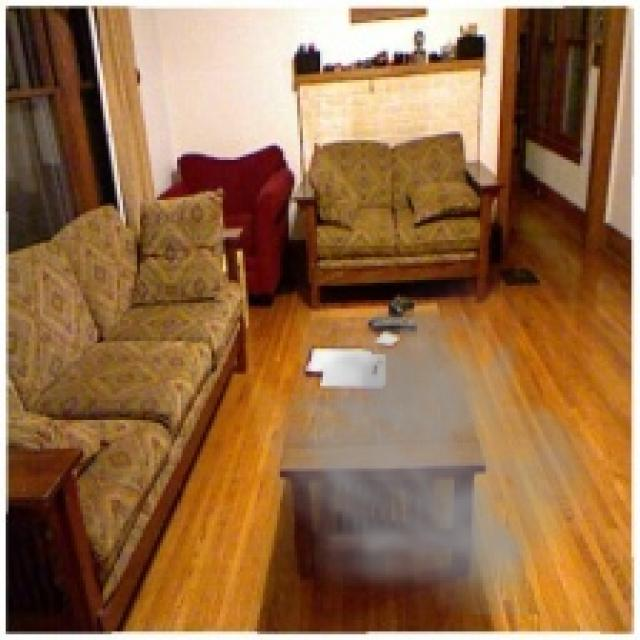smoke: (249, 269, 614, 614)
